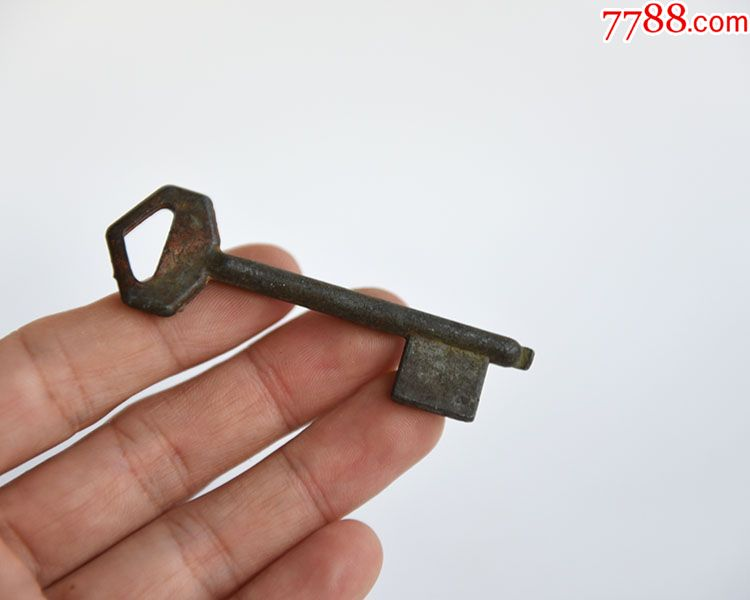key: (96, 179, 544, 432)
